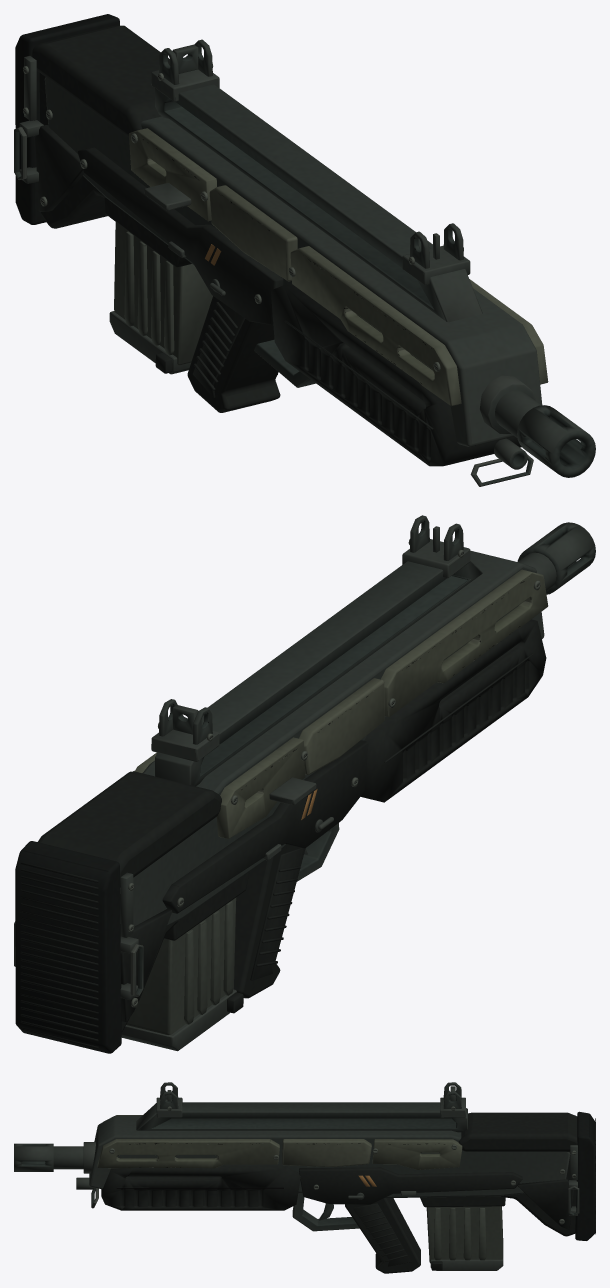
Rendered from MilitiaServiceRifle_LOD1.fbx.
The picture shows the model from 3 angles, top to bottom: view 1: azimuth 30°, elevation 25°; view 2: azimuth 150°, elevation 25°; view 3: azimuth 270°, elevation 25°; orthographic projection. The views are drawn at different scales.
Visible parts, largest first — view 1: MilitiaServiceRifle_LOD1; view 2: MilitiaServiceRifle_LOD1; view 3: MilitiaServiceRifle_LOD1.
Boxes of the visible parts, left/top/right/bottom form: MilitiaServiceRifle_LOD1: left=14, top=14, right=595, bottom=486; MilitiaServiceRifle_LOD1: left=14, top=515, right=595, bottom=1053; MilitiaServiceRifle_LOD1: left=14, top=1082, right=595, bottom=1273.
Bounding box in the file's own units: 0.1609 × 0.3589 × 1.05.
1 material, 1 textured.
